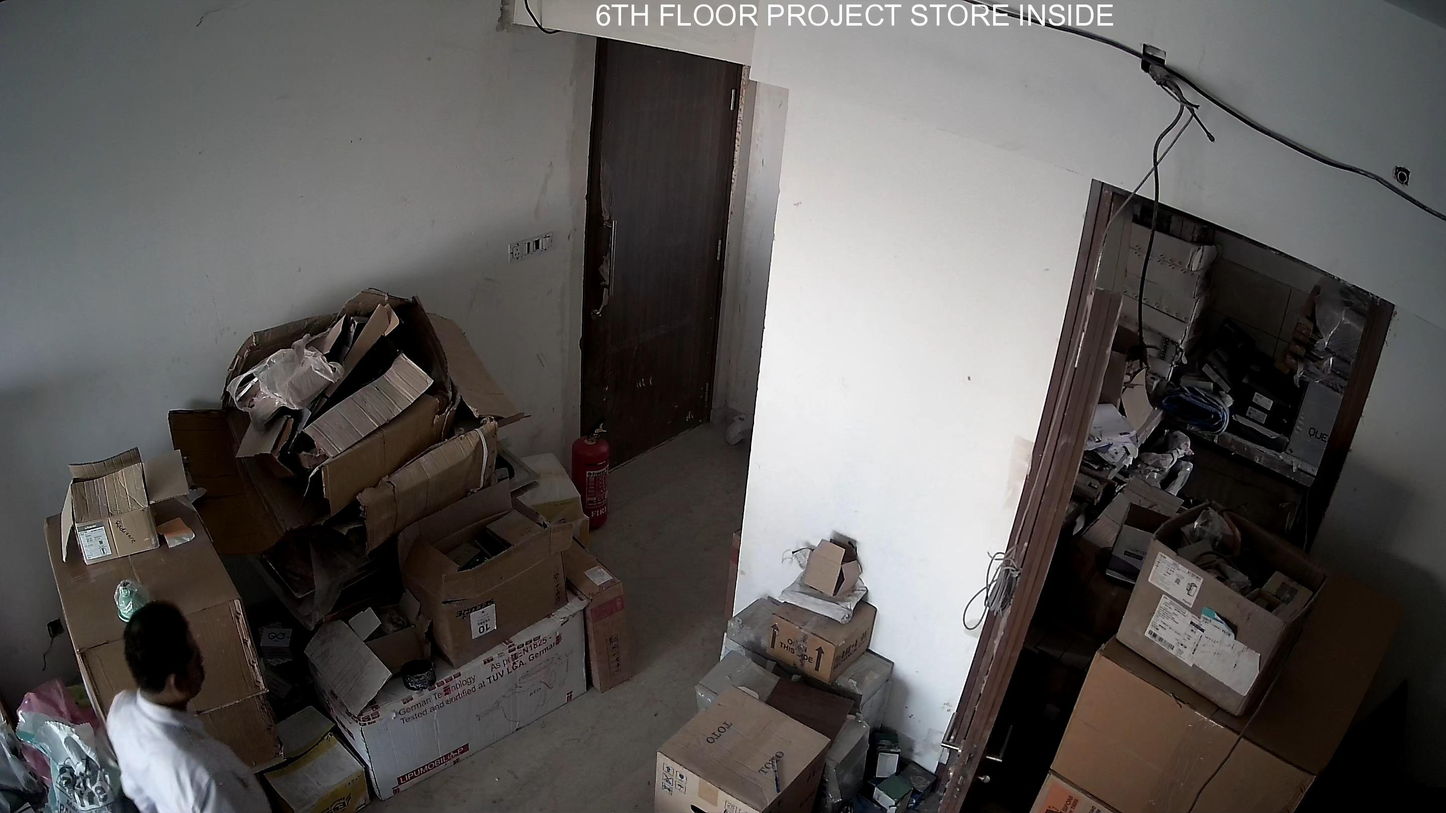Door-Close: (576, 33, 746, 474)
